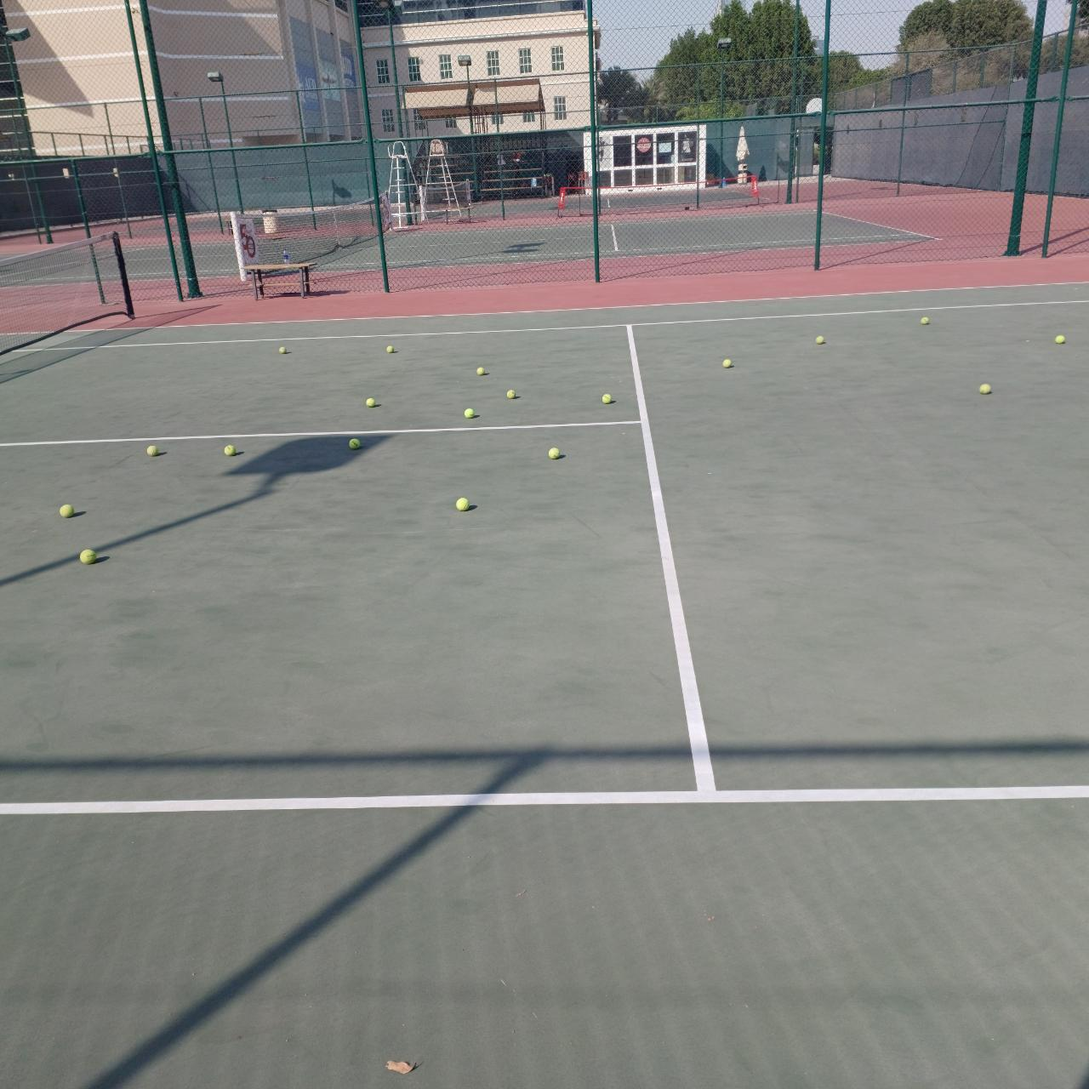tennis-ball: (77, 547, 96, 564), (454, 496, 470, 512), (58, 502, 73, 517), (977, 380, 991, 394), (348, 437, 361, 450), (222, 442, 235, 455), (1052, 332, 1065, 344), (548, 448, 561, 459), (464, 408, 476, 419), (601, 393, 613, 404), (366, 397, 377, 408), (147, 445, 158, 456), (277, 345, 289, 355), (506, 389, 517, 399), (815, 335, 825, 345), (475, 366, 486, 375), (722, 358, 731, 369), (386, 345, 394, 354), (921, 317, 929, 325)
